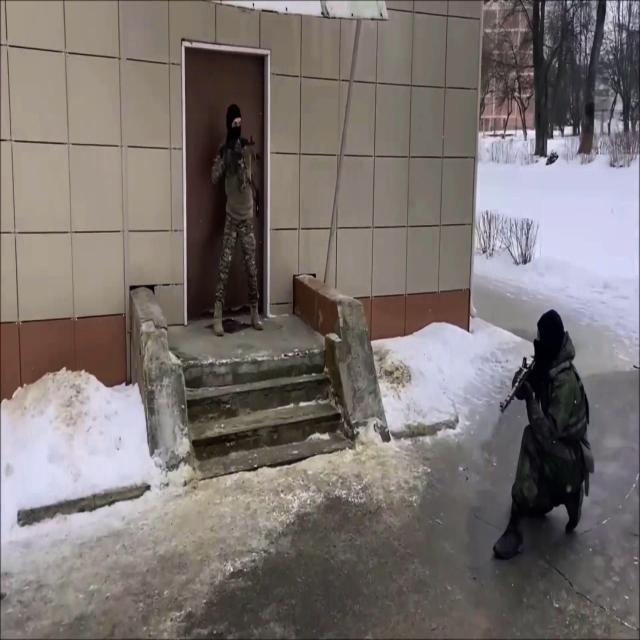gun: (495, 306, 594, 558), (209, 101, 266, 337), (500, 352, 538, 418), (218, 132, 256, 163)
